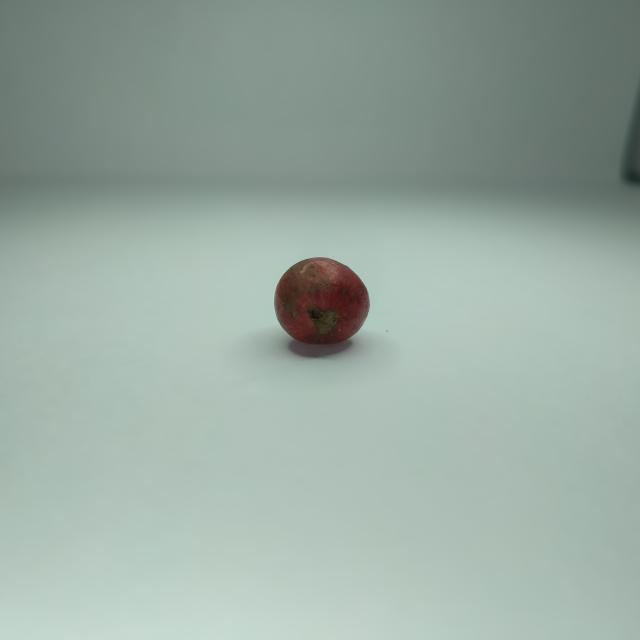Infectado: (274, 257, 369, 344)
